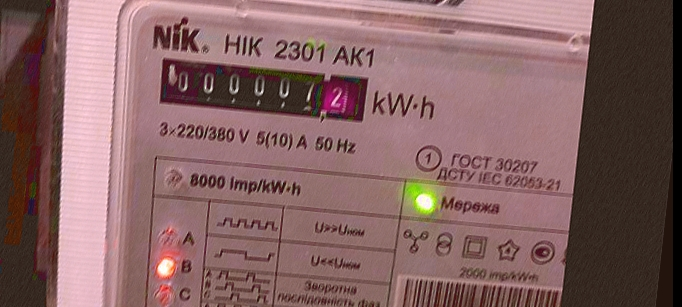0: (173, 67, 189, 93), (250, 73, 266, 97), (199, 70, 214, 94), (225, 71, 240, 95), (275, 75, 290, 99)
2: (327, 84, 342, 109)
7: (300, 78, 315, 103)
screen: (145, 44, 377, 134)
